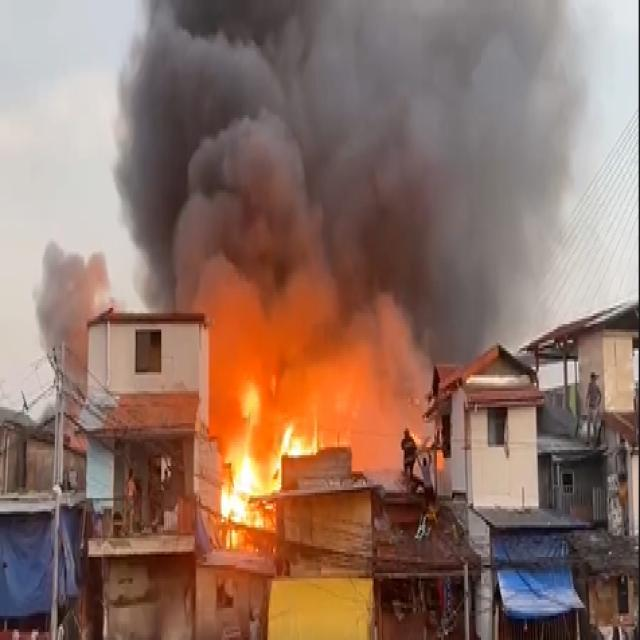Fire: (222, 382, 310, 520)
Smoke: (309, 0, 586, 336), (126, 5, 319, 304)
